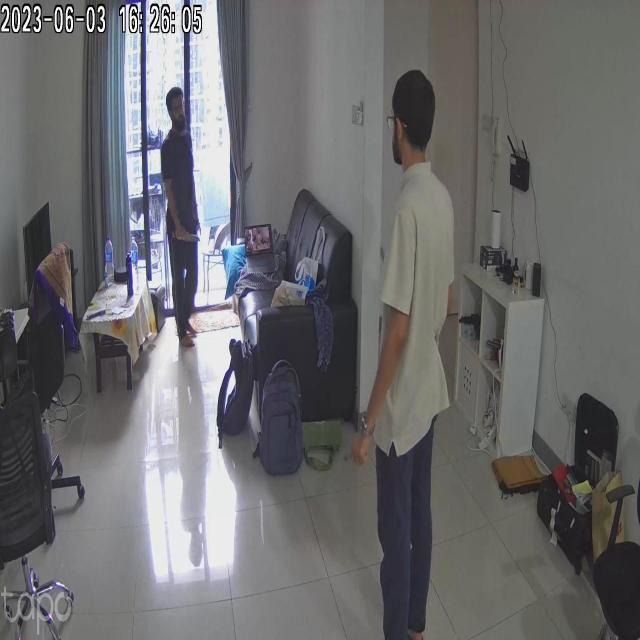Knife: (174, 218, 208, 252)
